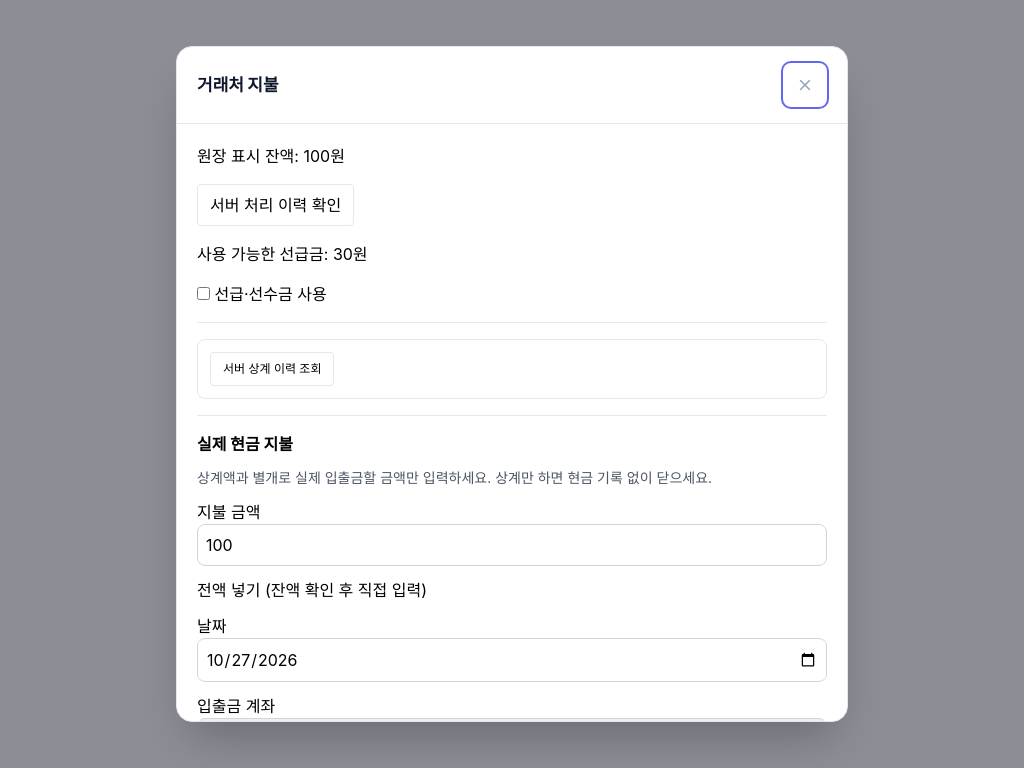
Scenario: 상계취소ACK는사용체크해제·100원복구후재계획가능
The width and height of the screenshot is (1024, 768).
Click the checkbox labelled "선급·선수금 사용".
click(204, 294)  # box [197,287,210,300]
(page scrolled)
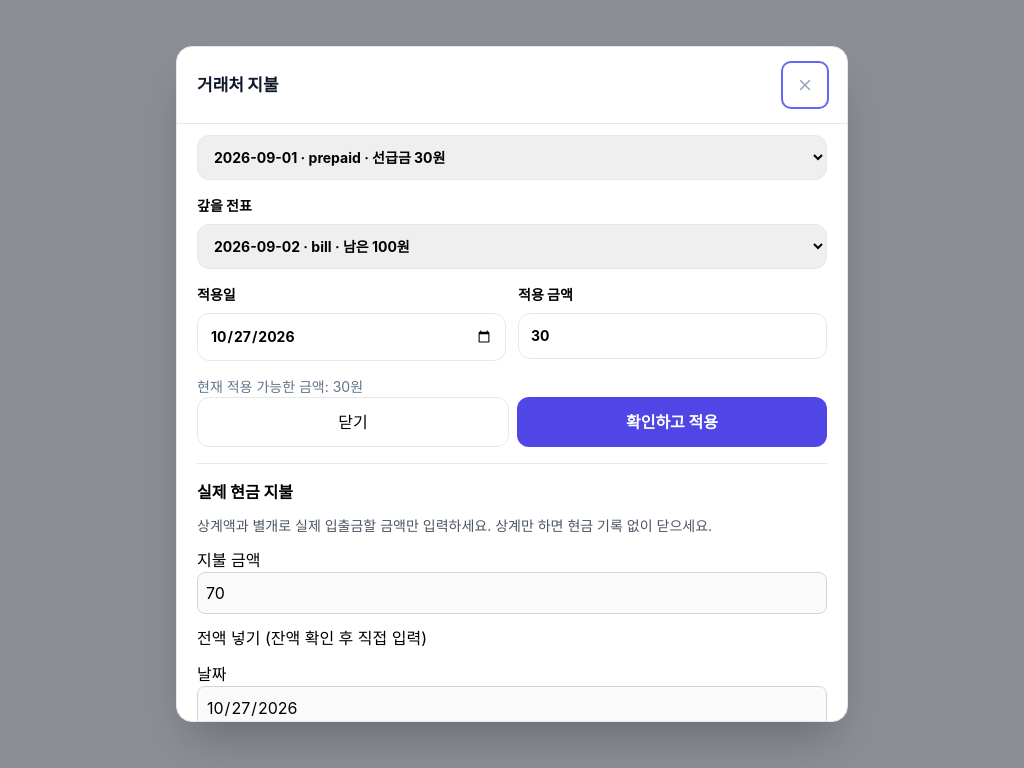
Click the button "확인하고 적용".
click(672, 422)  # box [517,397,827,447]
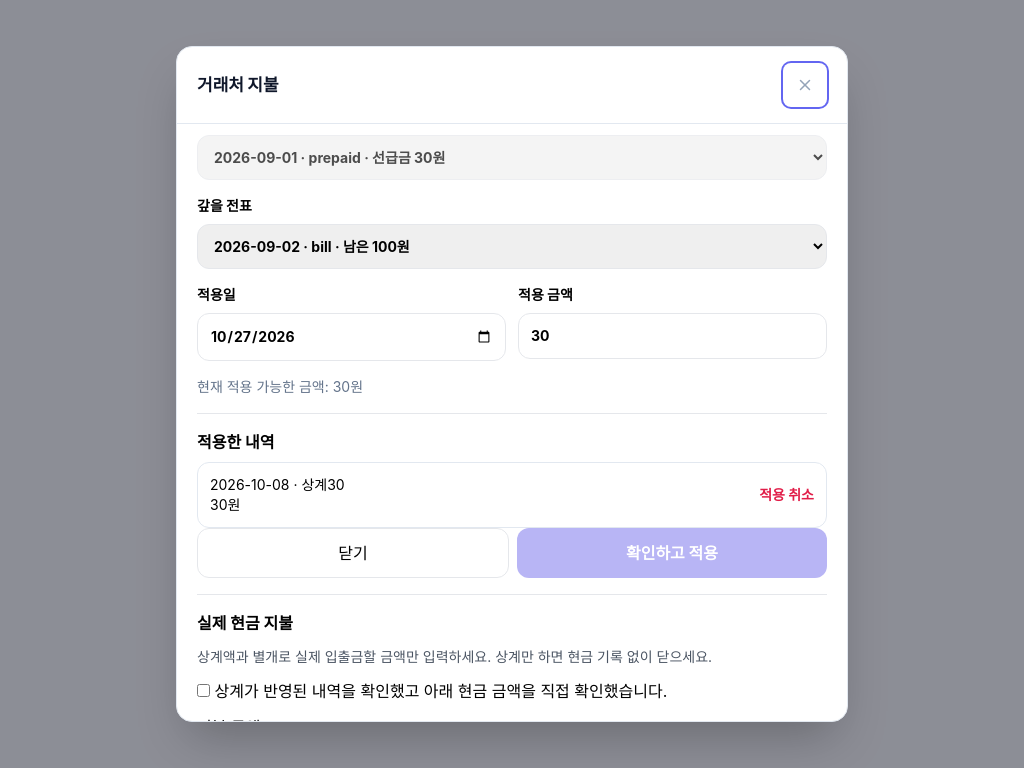
Now the checkbox labelled "상계가 반영된 내역을 확인했고 아래 현금 금액을 직접 확인했습니다." is shown, box [197,684,210,697]
Click the button "적용 취소".
click(787, 495)  # box [759,485,814,505]
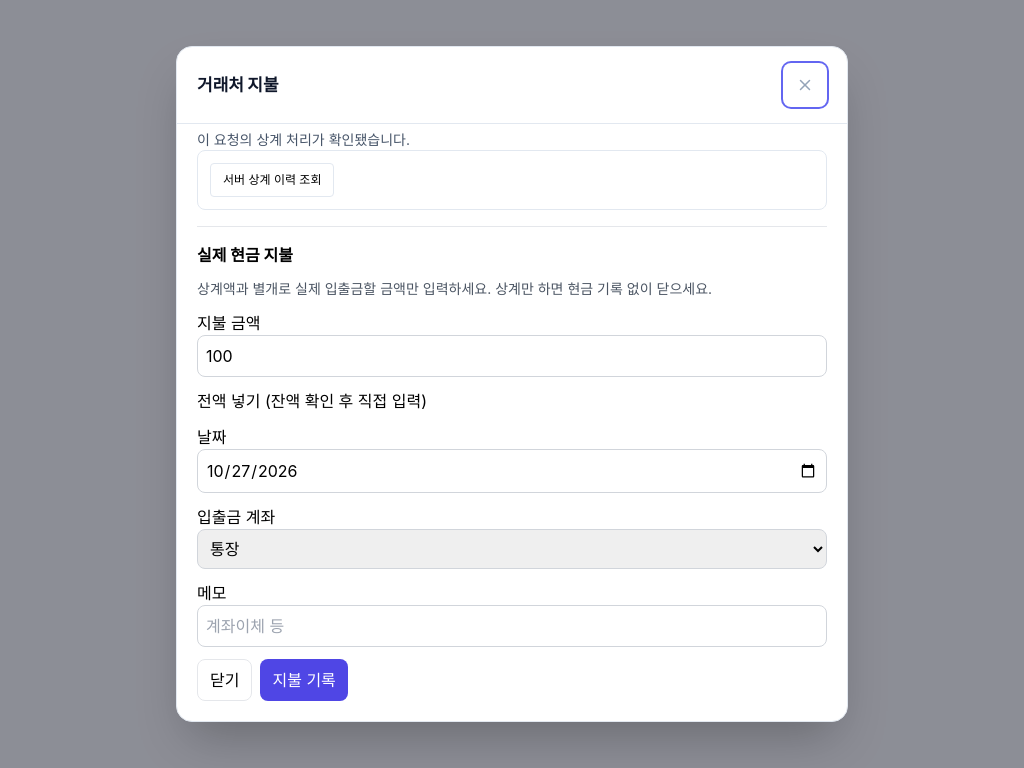
Now the field labelled "지불 금액" holds "100", box [197,335,827,377]
